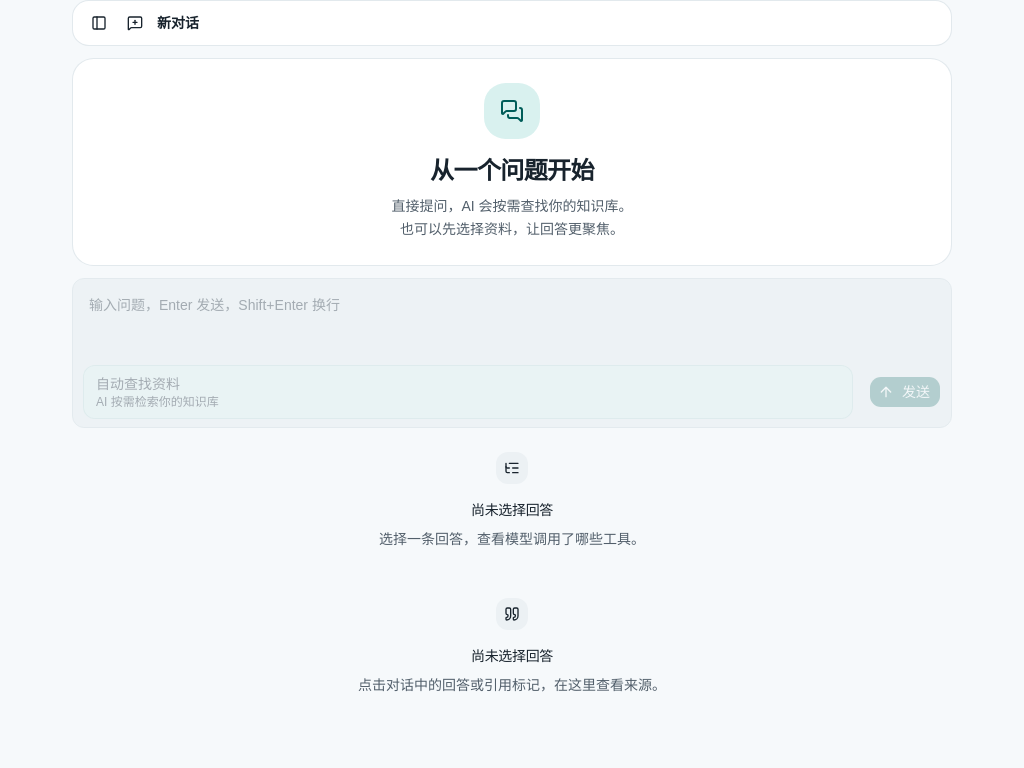
Test: ChatView streaming › collapses the history without losing an unsent question
Type "尚未发送的问题" into the text box labelled "问题" at (512, 318), box [73,278,951,358]
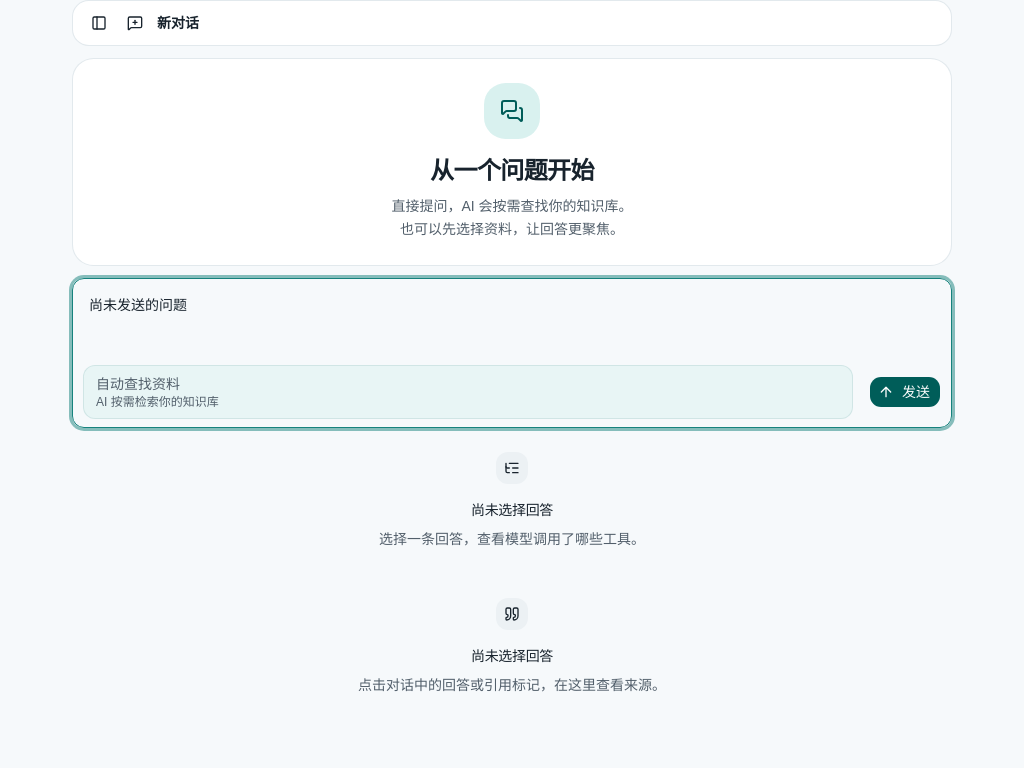
Click the button named "展开会话列表" at (99, 23), box [85,9,113,37]
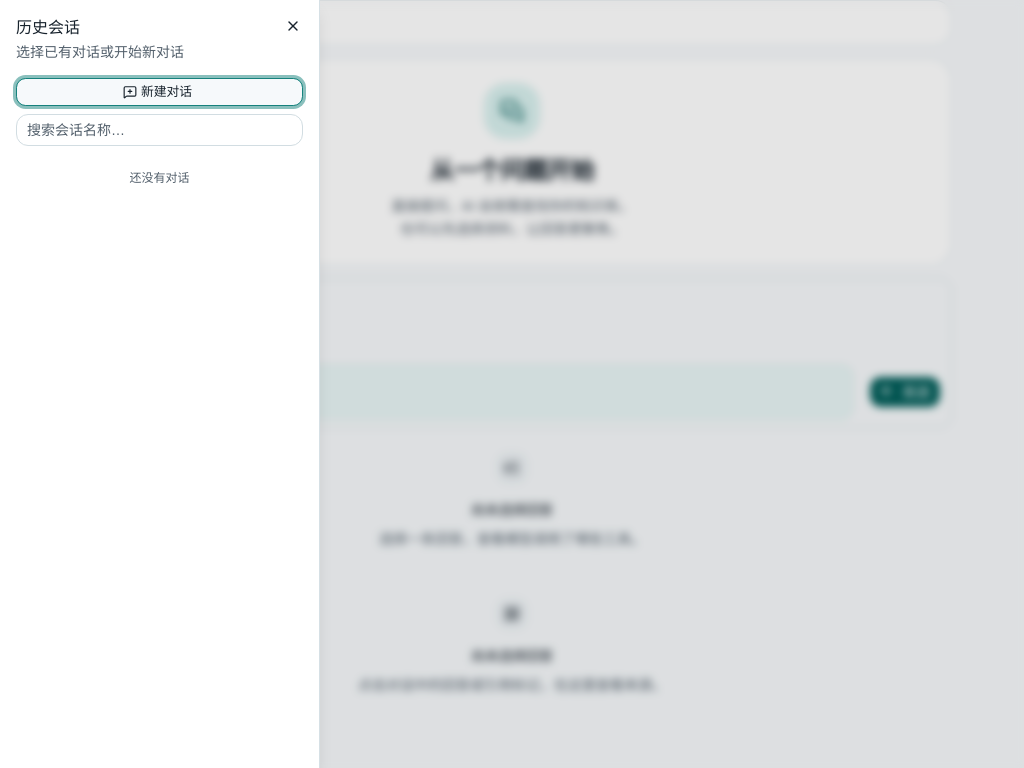
expect the heading "历史会话" is shown: met, box [16,19,80,36]
Press Escape
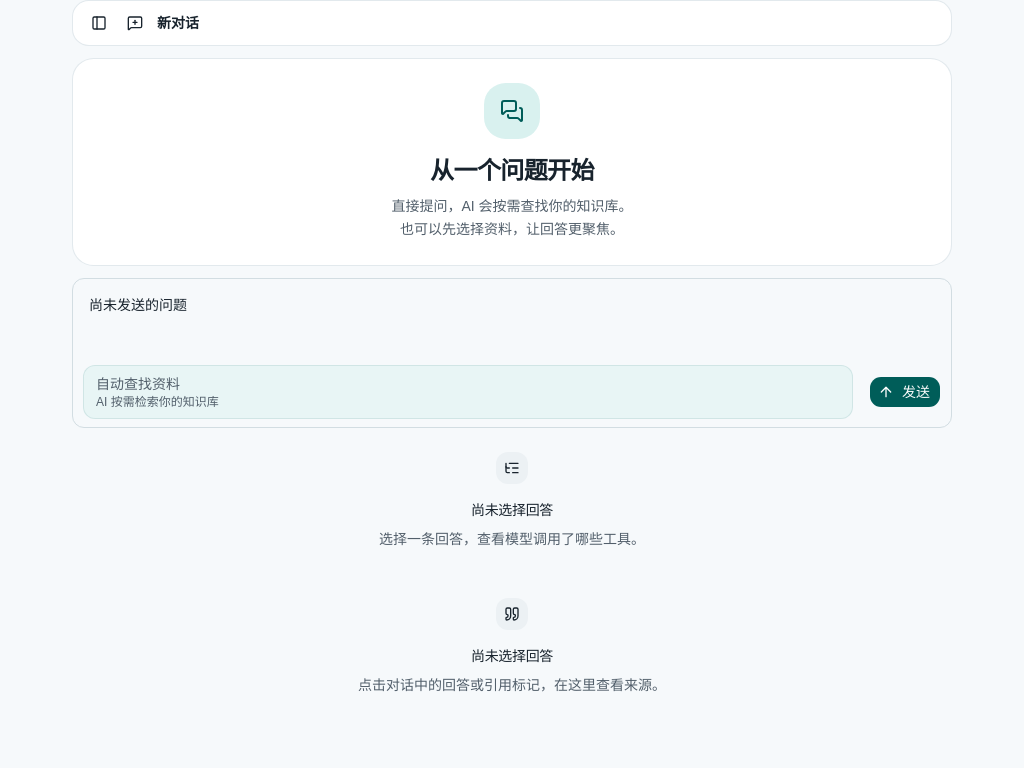
expect the button named "展开会话列表" is collapsed: met, box [85,9,113,37]
